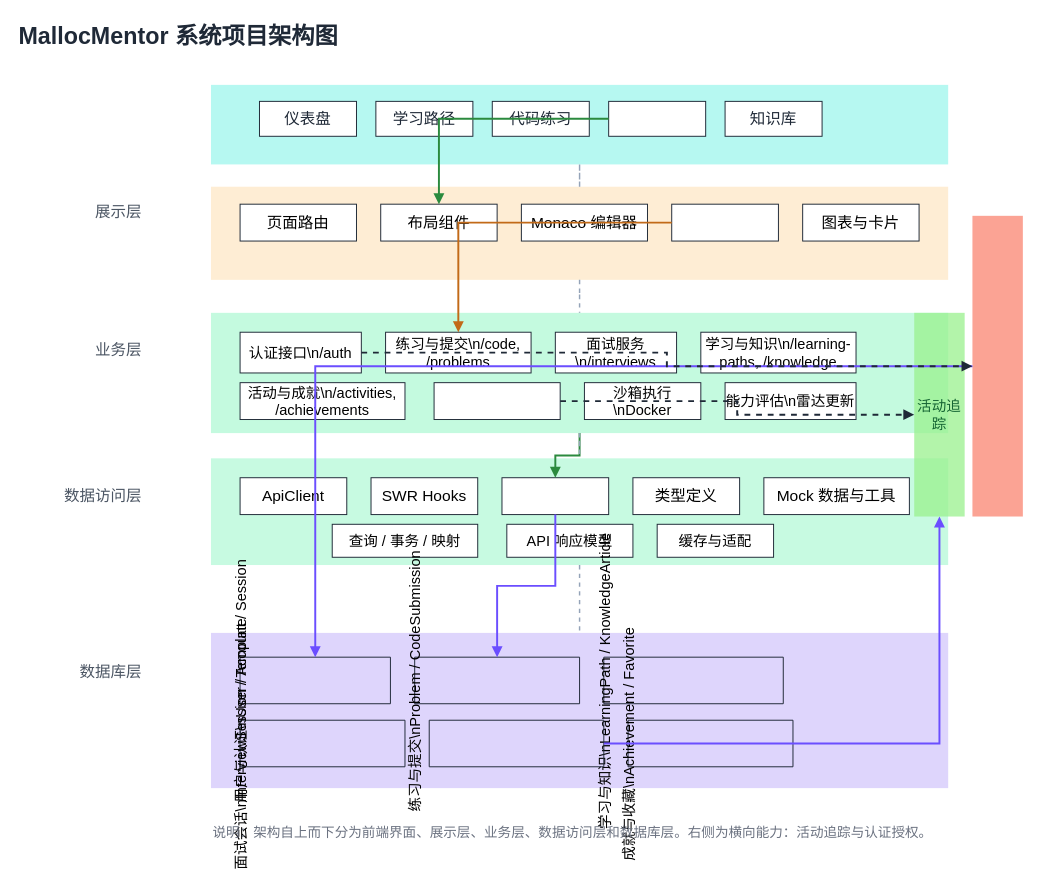
Image size: 1039x895. Some labels were removed from this diagram. Each missing label, with the centre of its shape:
"AI 集成\nCoze / SSE" goes at point 496,401.
"Prisma ORM" goes at point 555,496.
"模拟面试" goes at point 657,118.
"聊天窗口" goes at point 724,222.
"能力与活动\nCapabilityRadar / ActivityLog" goes at point 516,743.
"认证授权" goes at point 997,365.
